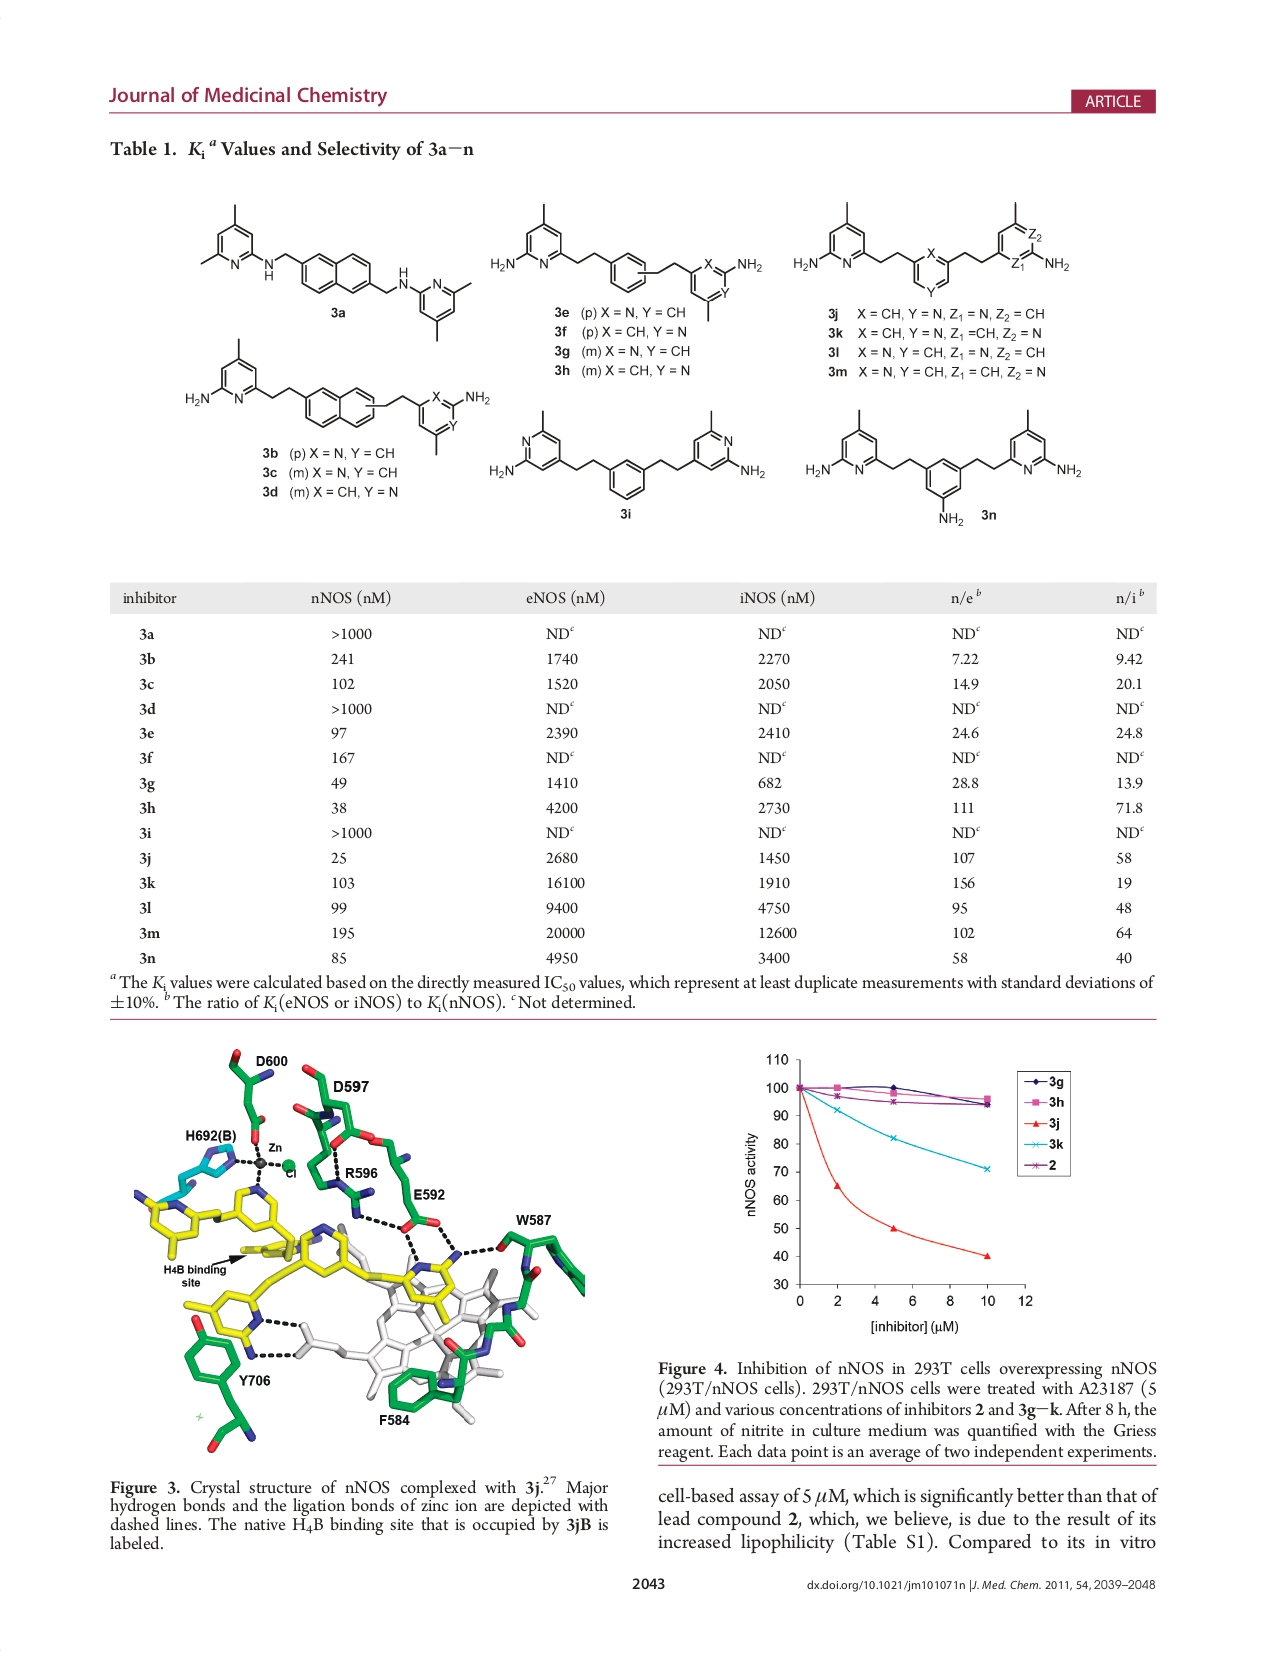exist_molecular: (197, 197, 473, 340), (181, 338, 489, 457), (802, 406, 1084, 527), (488, 201, 765, 323), (789, 199, 1073, 298), (484, 408, 771, 501)
